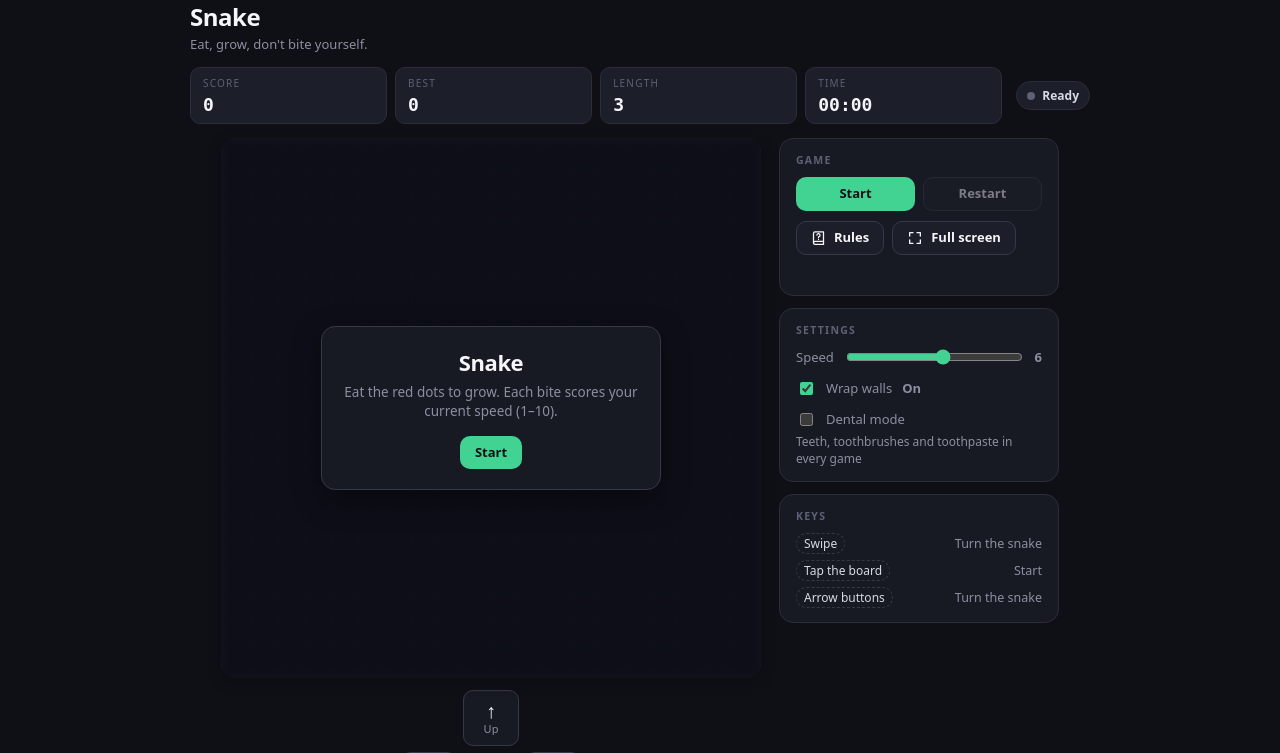
Snake touch controls › a tap on the board while idle starts the game
Press the mouse on the element with class "arc-board-touch" at {"x": 491, "y": 408}, box [221,138,761,678]
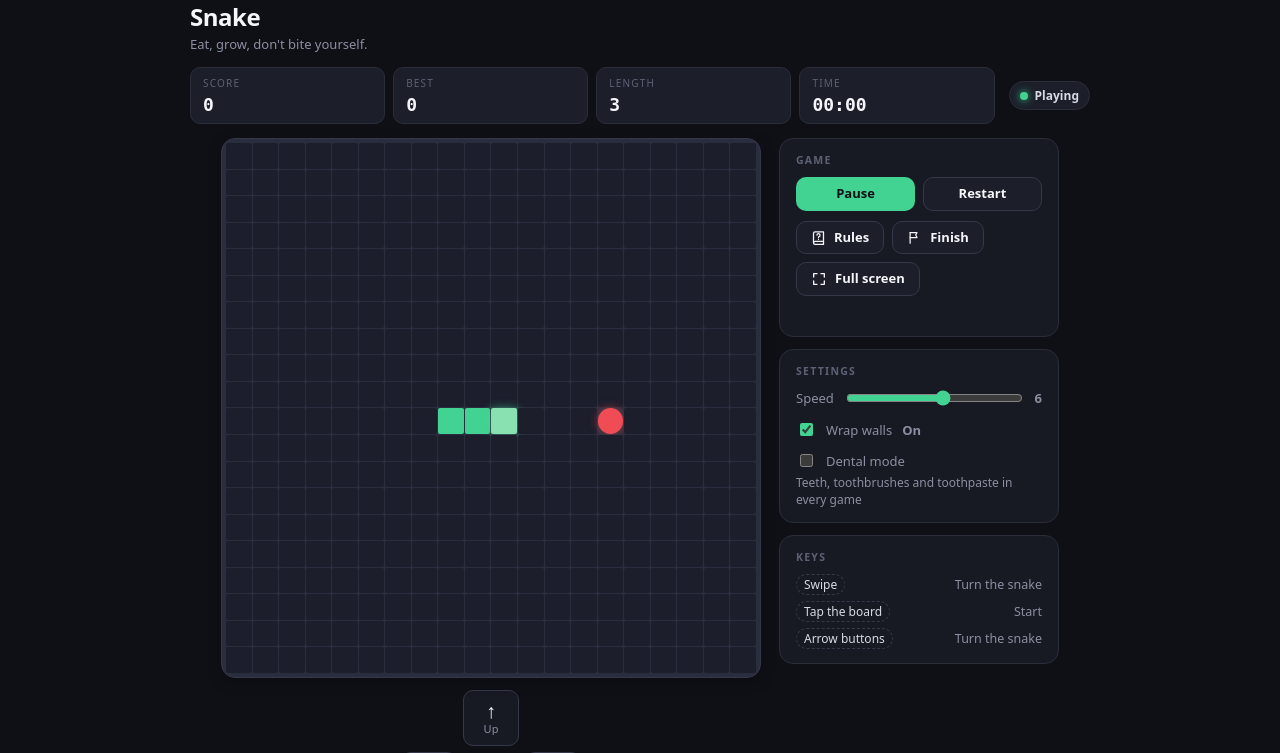
Expected: the dialog is gone
